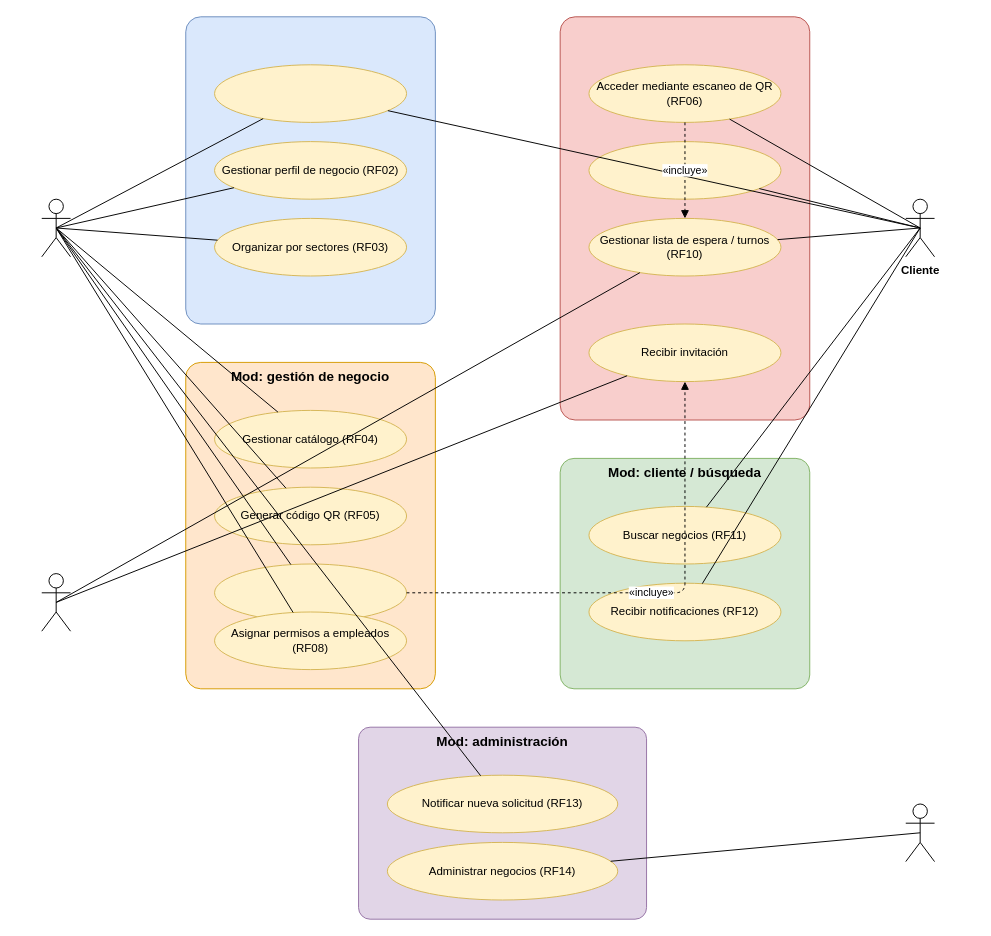
This 991x936 diagram has some shape labels left out. Each missing label, with the box of its shape:
Dueño / Administrador: (41, 198, 71, 257)
Empleado: (41, 573, 71, 631)
Invitar empleados (RF07): (214, 563, 407, 622)
Mod: gestión de turnos: (559, 16, 810, 420)
Mod: registro y perfil: (185, 16, 435, 324)
Registrarse y validar identidad (RF01): (214, 64, 407, 122)
Solicitar turno virtual (RF09): (588, 141, 781, 199)
Superadministrador: (905, 803, 935, 862)
